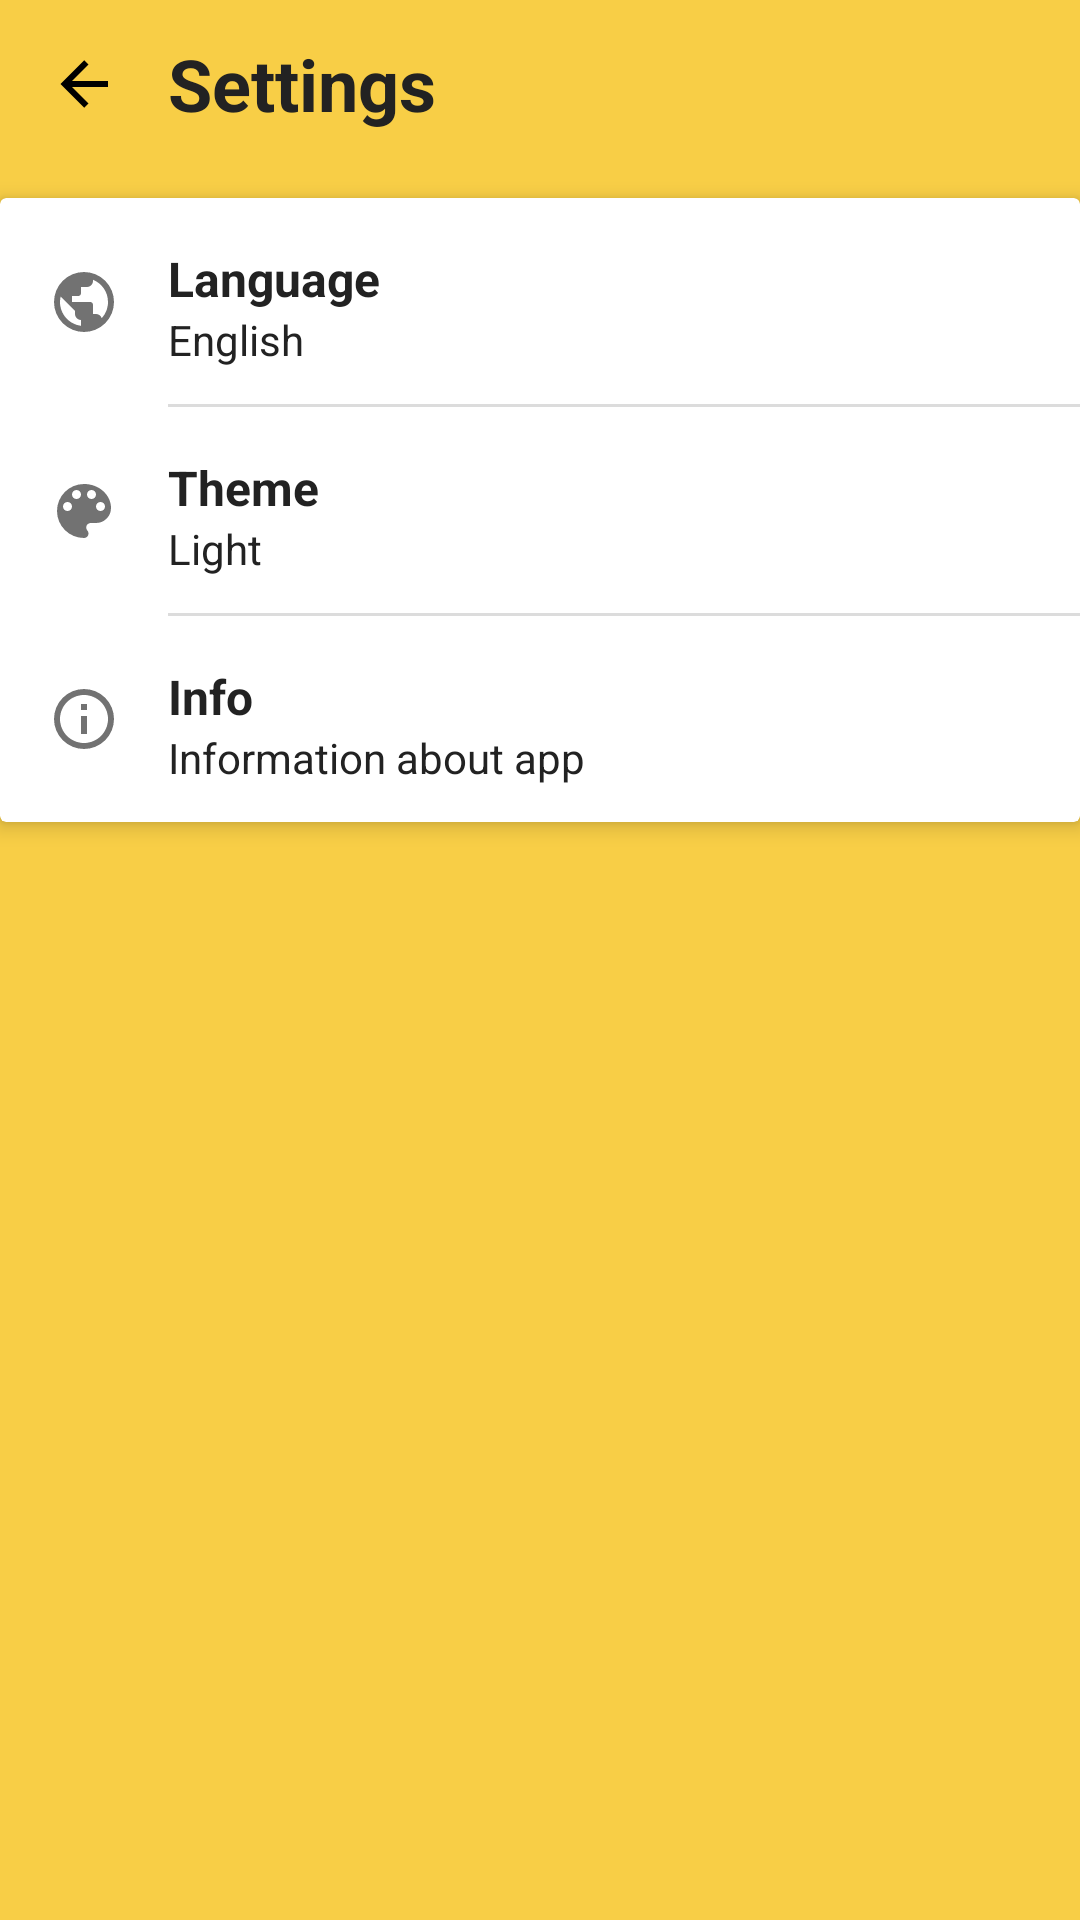

Icon click points for this 1080px×1920px phone screenshot, format (x=x, y=y):
arrow left: (x=84, y=84)
earth: (x=84, y=302)
palette: (x=84, y=511)
